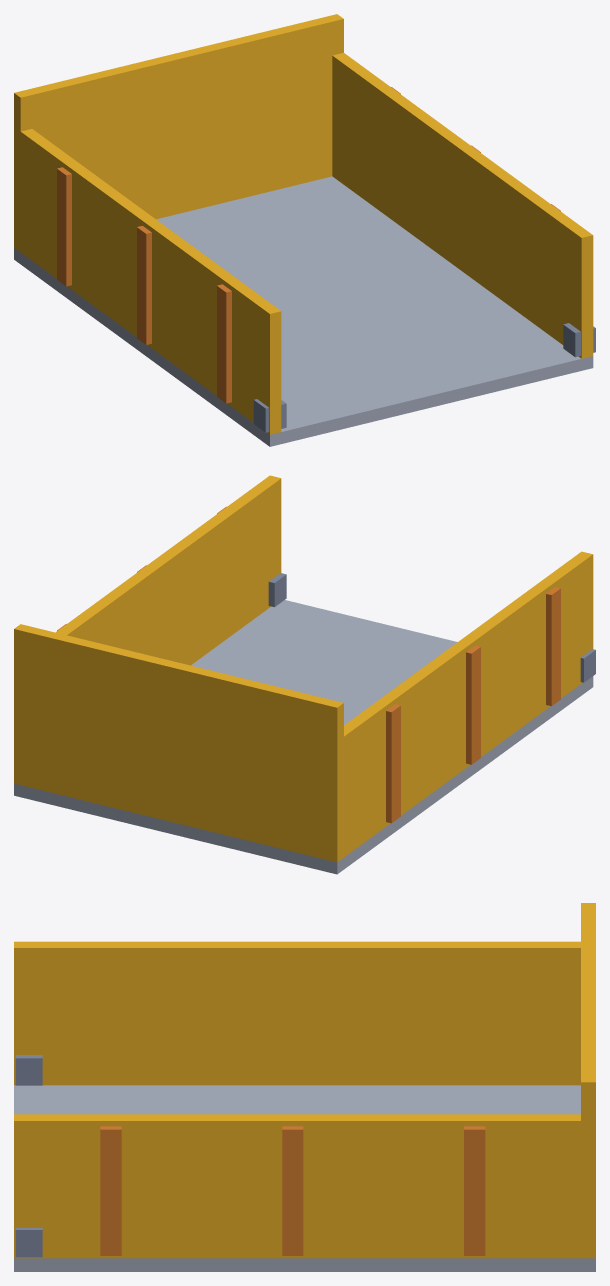
File: car_bed.glb
3 views of the same model, one above another, from view 1: azimuth 30°, elevation 25°; view 2: azimuth 150°, elevation 25°; view 3: azimuth 270°, elevation 25° (orthographic). The views are drawn at different scales.
Parts seen in each view (by area): view 1: car_bed; view 2: car_bed; view 3: car_bed.
Boxes of the visible parts, x1,y1,x2,y2 form: car_bed: [14, 14, 595, 446]; car_bed: [14, 475, 595, 874]; car_bed: [14, 903, 595, 1271].
Size of the model in its own units: 1.45 by 0.69 by 1.92.
